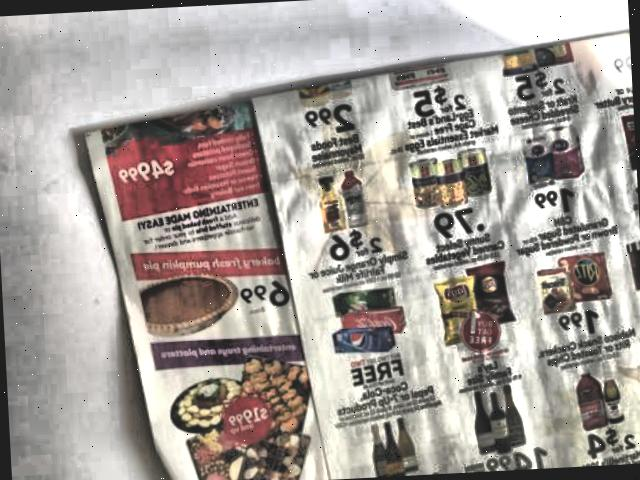Paper: (72, 27, 640, 480)
